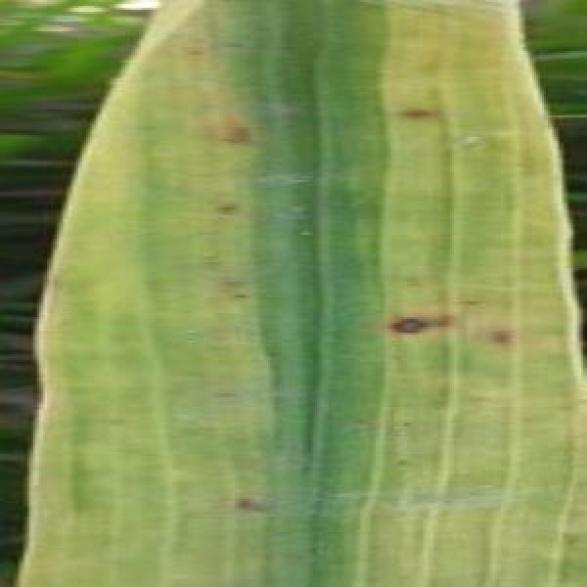Brown_Spot: (213, 486, 282, 522), (386, 94, 440, 127), (384, 306, 432, 340), (212, 119, 258, 151), (483, 321, 515, 348), (426, 305, 458, 331), (397, 270, 431, 294), (206, 194, 241, 217), (256, 339, 288, 360), (198, 248, 223, 274), (100, 409, 131, 428), (550, 397, 575, 415), (207, 386, 241, 399), (454, 294, 481, 309), (513, 411, 536, 428), (432, 384, 454, 397), (391, 454, 411, 468), (186, 45, 203, 59), (395, 417, 415, 428), (229, 290, 248, 300)
